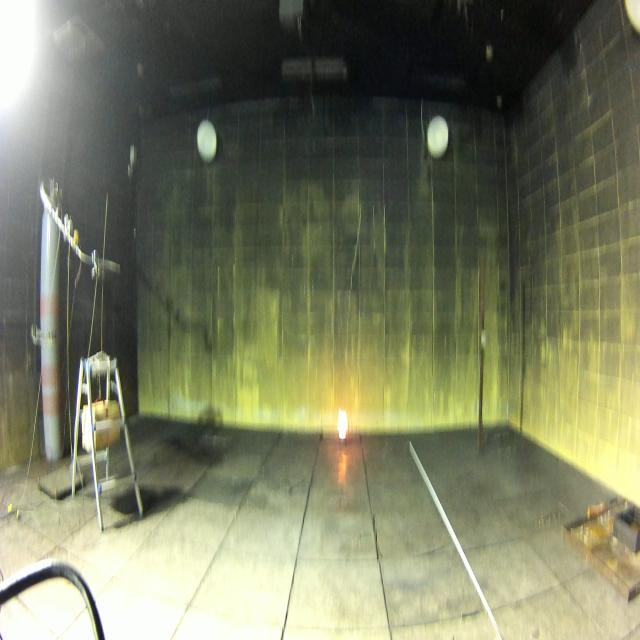Fire: (337, 408, 348, 439)
